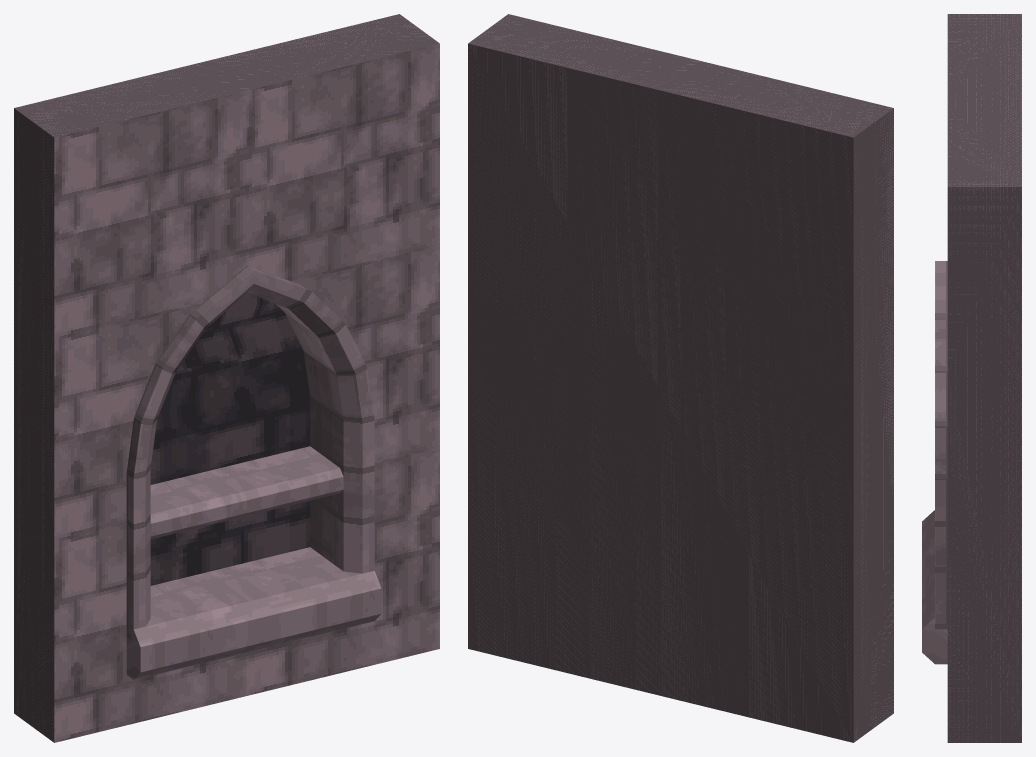
The model's file is wall_niche_shelf_a.glb.
3 renders of one model, left to right at view 1: azimuth 30°, elevation 25°; view 2: azimuth 150°, elevation 25°; view 3: azimuth 270°, elevation 25°, orthographic. The views are drawn at different scales.
Parts seen in each view (by area): view 1: wall, frame, sill, shelf; view 2: wall; view 3: wall, frame, sill.
Boxes of the visible parts, x1,y1,x2,y2 form: wall: [14, 14, 439, 742]; frame: [126, 265, 374, 639]; sill: [126, 547, 381, 679]; shelf: [150, 446, 343, 539]; wall: [468, 14, 893, 742]; wall: [947, 14, 1021, 742]; frame: [935, 261, 947, 629]; sill: [922, 510, 947, 664].
Bounding box in the file's own units: 2 × 3 × 0.4875.
Materials: 1 (1 with a texture image).
